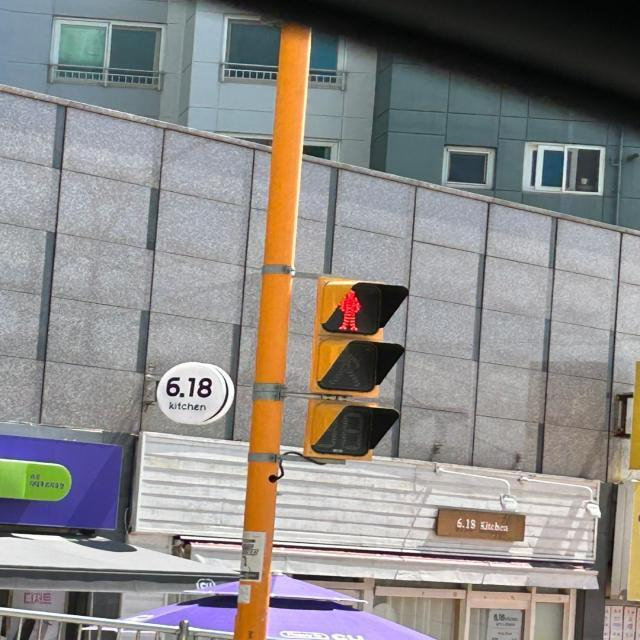red_light: (337, 287, 368, 330)
